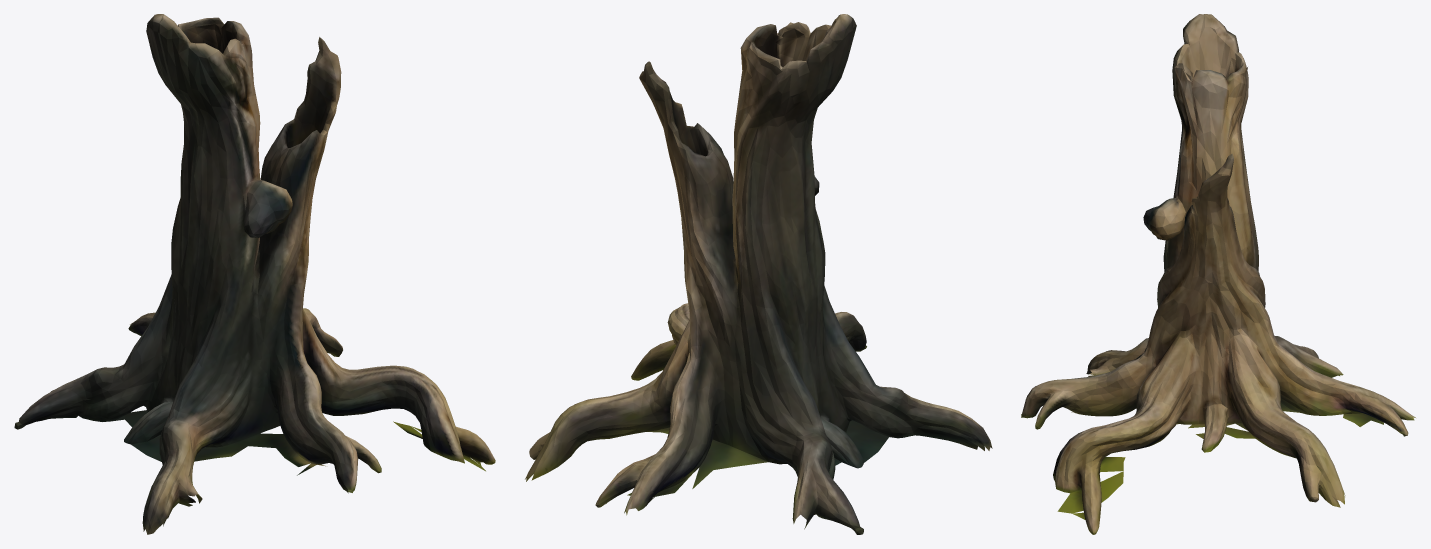
File: terrain3_oak_0.glb
3 renders of one model, left to right at view 1: azimuth 30°, elevation 25°; view 2: azimuth 150°, elevation 25°; view 3: azimuth 270°, elevation 25°, orthographic. The views are drawn at different scales.
Visible parts, largest first — view 1: oak_0; view 2: oak_0; view 3: oak_0.
Part boxes in pixels (<box>): oak_0: <box>14,14,495,534</box>; oak_0: <box>525,14,992,534</box>; oak_0: <box>1021,14,1415,534</box>.
Bounding box in the file's own units: 26.07 × 33.06 × 29.05.
Materials: 1 (1 with a texture image).
